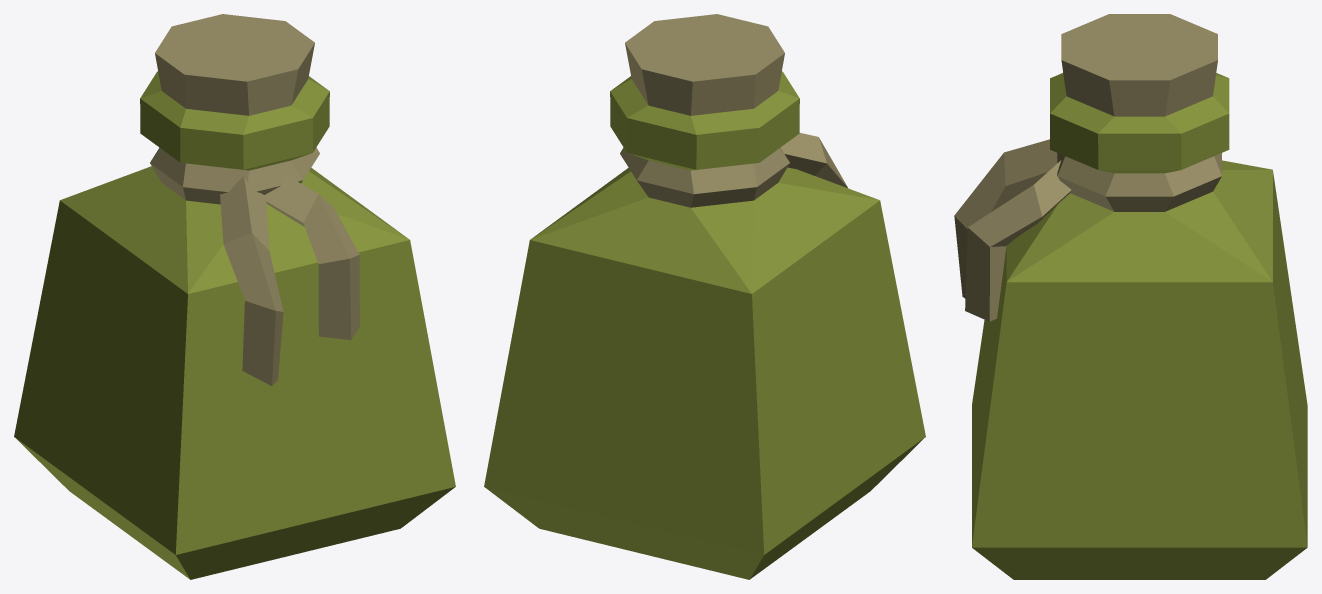
The model's file is Potion_4.fbx.
The picture shows the model from 3 angles, left to right: view 1: azimuth 30°, elevation 25°; view 2: azimuth 150°, elevation 25°; view 3: azimuth 270°, elevation 25°; orthographic projection. The views are drawn at different scales.
Visible parts, largest first — view 1: Potion_4; view 2: Potion_4; view 3: Potion_4.
Part boxes in pixels (x1,y1,x2,y2): Potion_4: [14, 14, 455, 579]; Potion_4: [484, 14, 925, 579]; Potion_4: [954, 14, 1307, 579].
Bounding box in the file's own units: 8.6 × 13.56 × 9.05.
